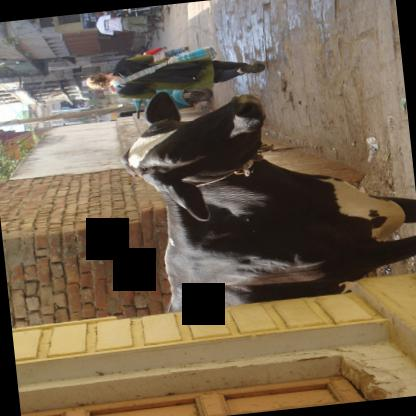handbag: (109, 44, 218, 88)
